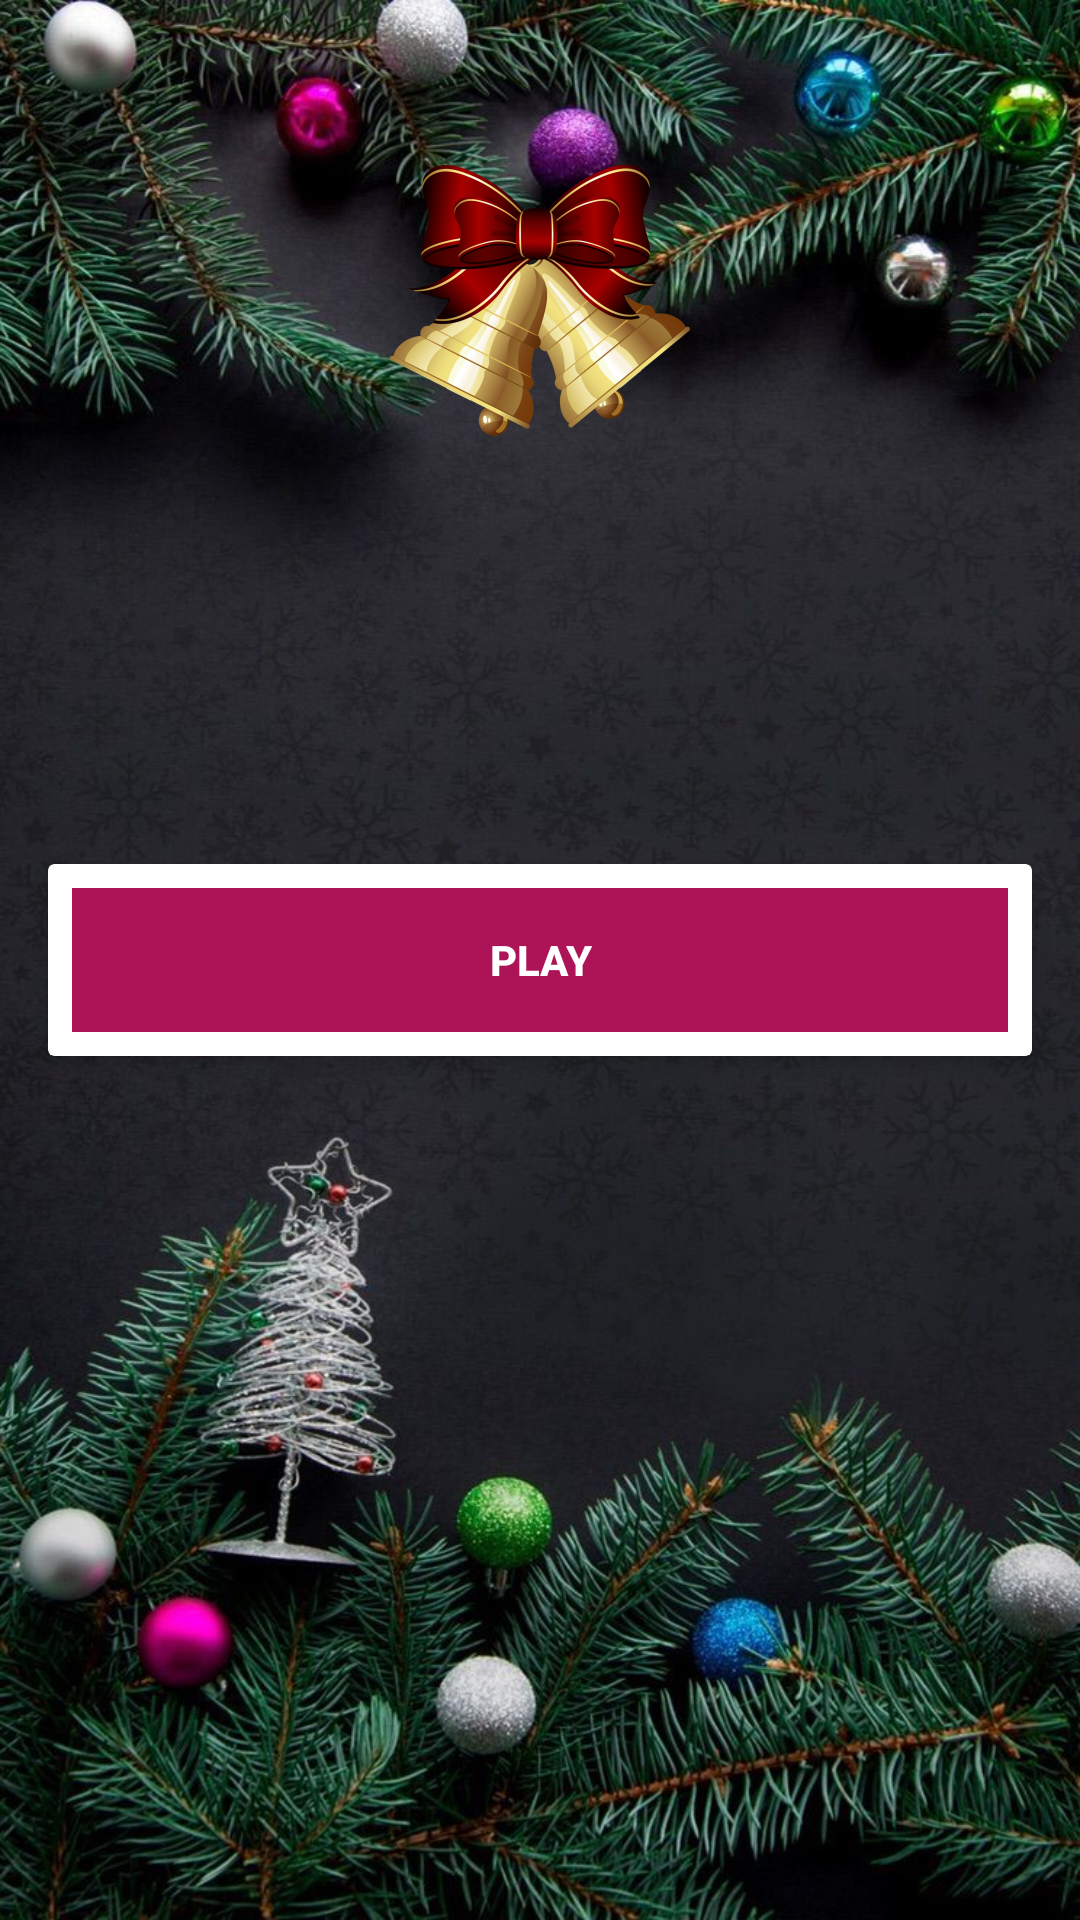

Point at icon controls on the screen. Image size 1080x1920, points as point (x, y).
chuongnoelthree: point (540, 300)
